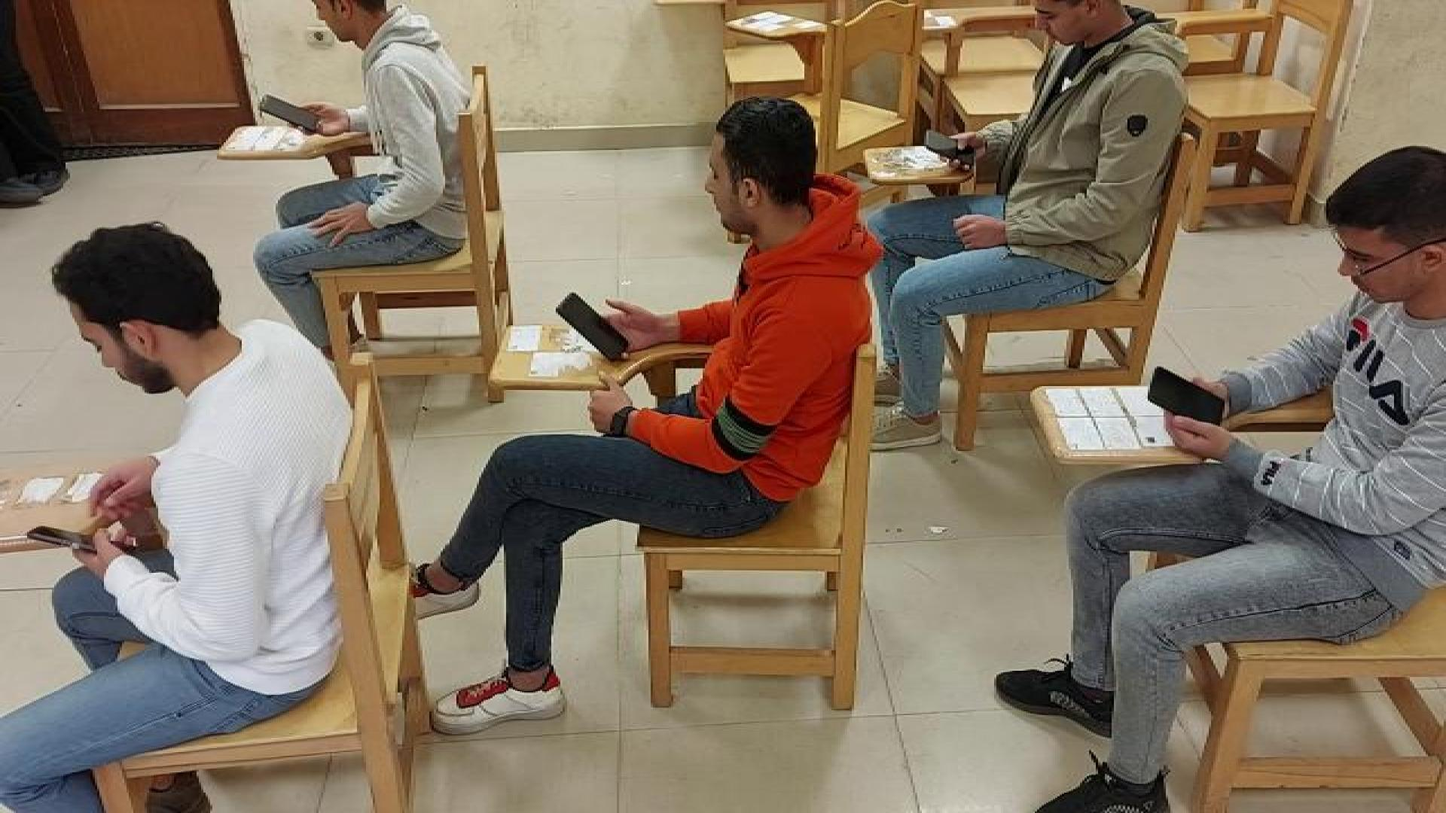phone: (550, 281, 634, 369), (1147, 356, 1230, 438), (24, 520, 139, 562), (256, 90, 329, 143), (923, 125, 986, 171)
